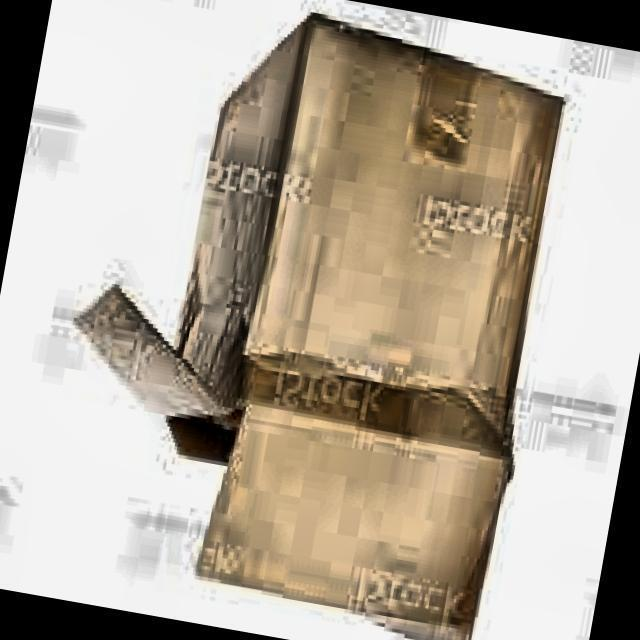cardboard: (23, 0, 583, 640)
